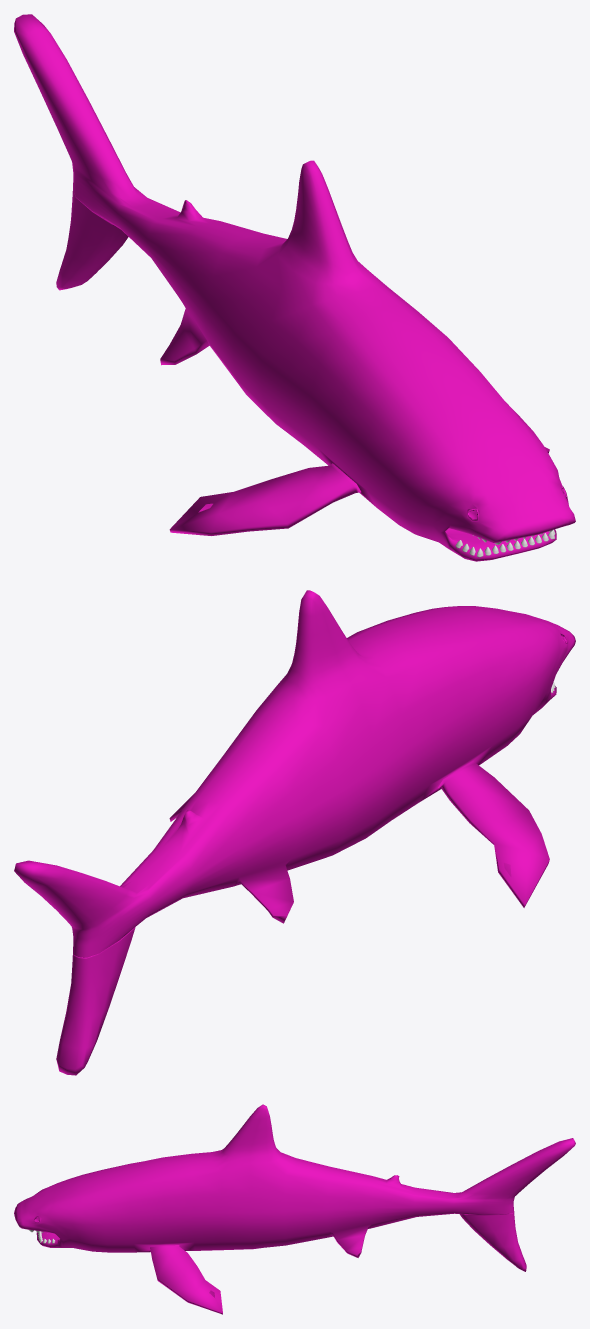
File: requin.glb
3 renders of one model, top to bottom at view 1: azimuth 30°, elevation 25°; view 2: azimuth 150°, elevation 25°; view 3: azimuth 270°, elevation 25°, orthographic. The views are drawn at different scales.
Visible parts, largest first — view 1: Requin; view 2: Requin; view 3: Requin.
Boxes of the visible parts, box(x1,y1,x2,y2) form: Requin: box(14, 14, 575, 561); Requin: box(14, 590, 575, 1075); Requin: box(14, 1104, 575, 1314).
Bounding box in the file's own units: 3.39 × 2.79 × 8.57.
